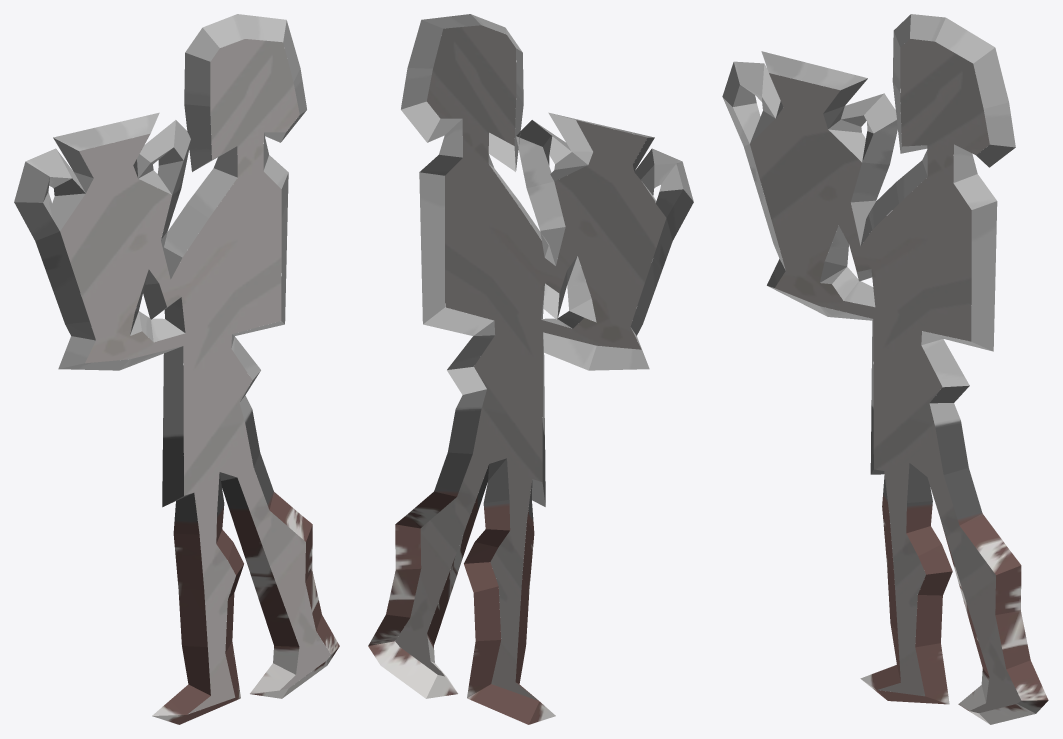
Rendered from ancient_SM_Prop_Symbol_02.gltf.
3 renders of one model, left to right at view 1: azimuth 30°, elevation 25°; view 2: azimuth 150°, elevation 25°; view 3: azimuth 330°, elevation 25°, orthographic.
Parts seen in each view (by area): view 1: SM_Prop_Symbol_02; view 2: SM_Prop_Symbol_02; view 3: SM_Prop_Symbol_02.
Boxes of the visible parts, x1,y1,x2,y2 form: SM_Prop_Symbol_02: (14, 14, 339, 724); SM_Prop_Symbol_02: (368, 14, 693, 724); SM_Prop_Symbol_02: (722, 14, 1048, 724).
Size of the model in its own units: 0.3463 by 0.7078 by 0.0171.
2 materials, 2 textured.
